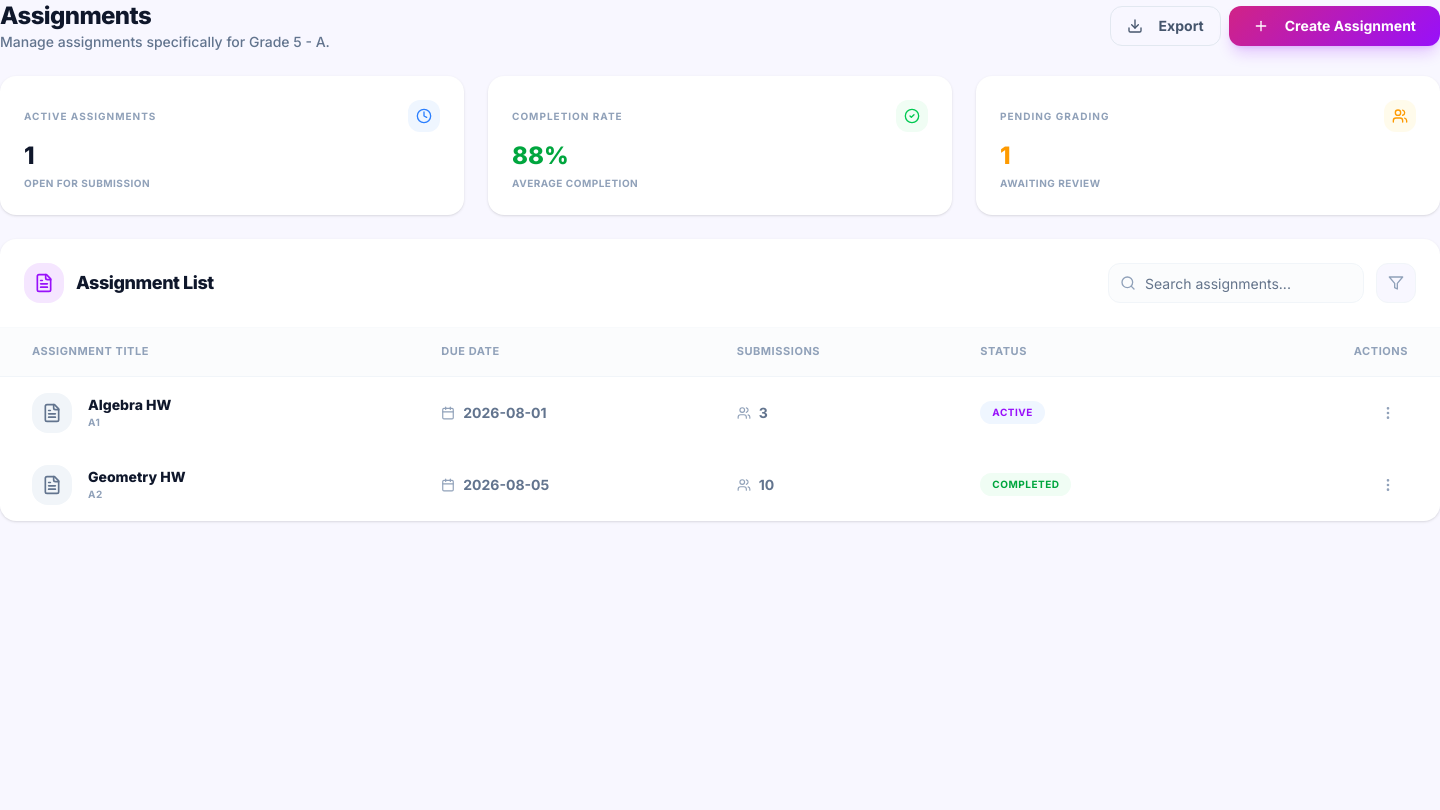
it: ClassAssignmentsTab › opens View Submissions dialog scoped to the class' students
Step 1. Click the button without text in the row of "Algebra HW" → (1388, 412), box [1368,392,1408,432]
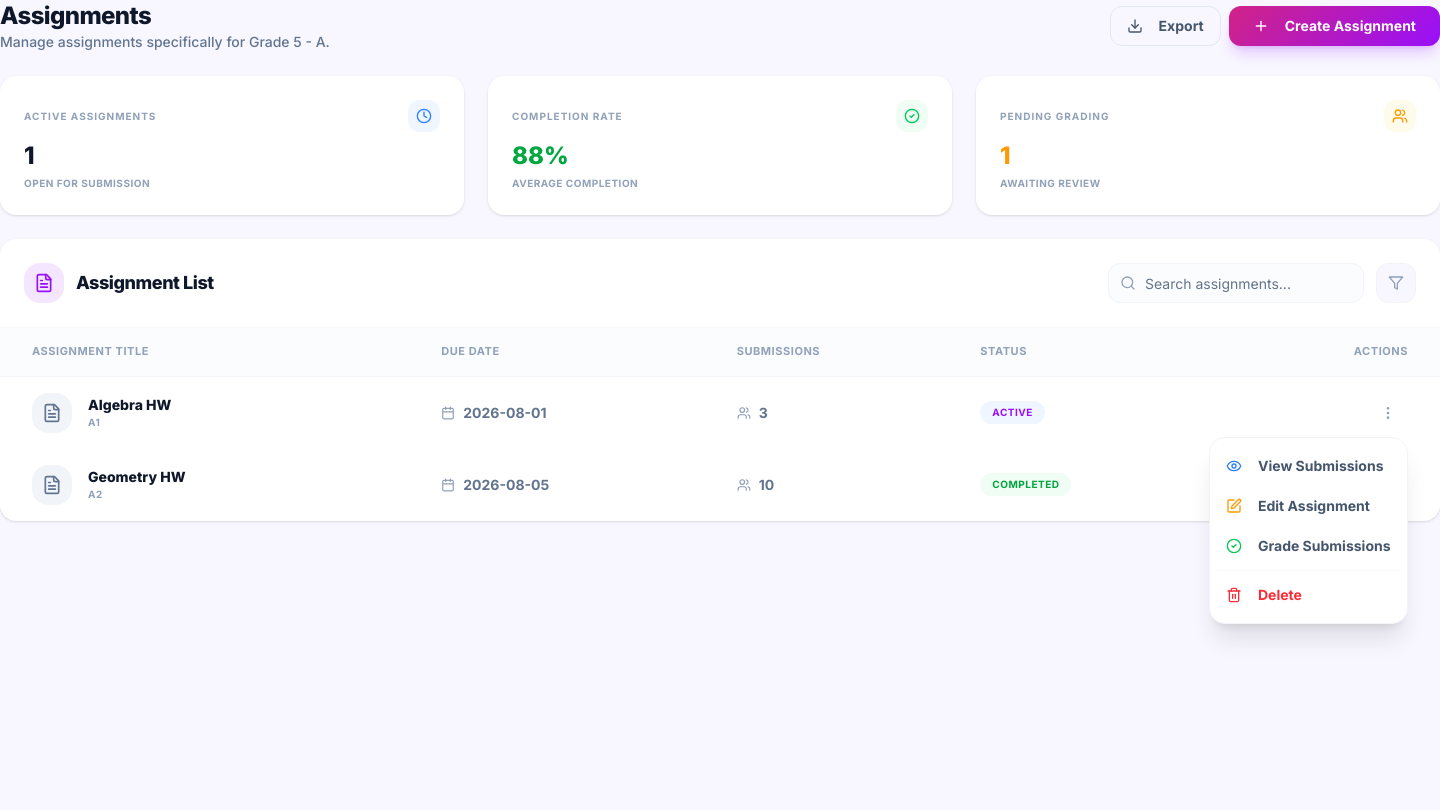
Step 2. Click the menu item "View Submissions" → (1305, 466), box [1226,457,1384,474]
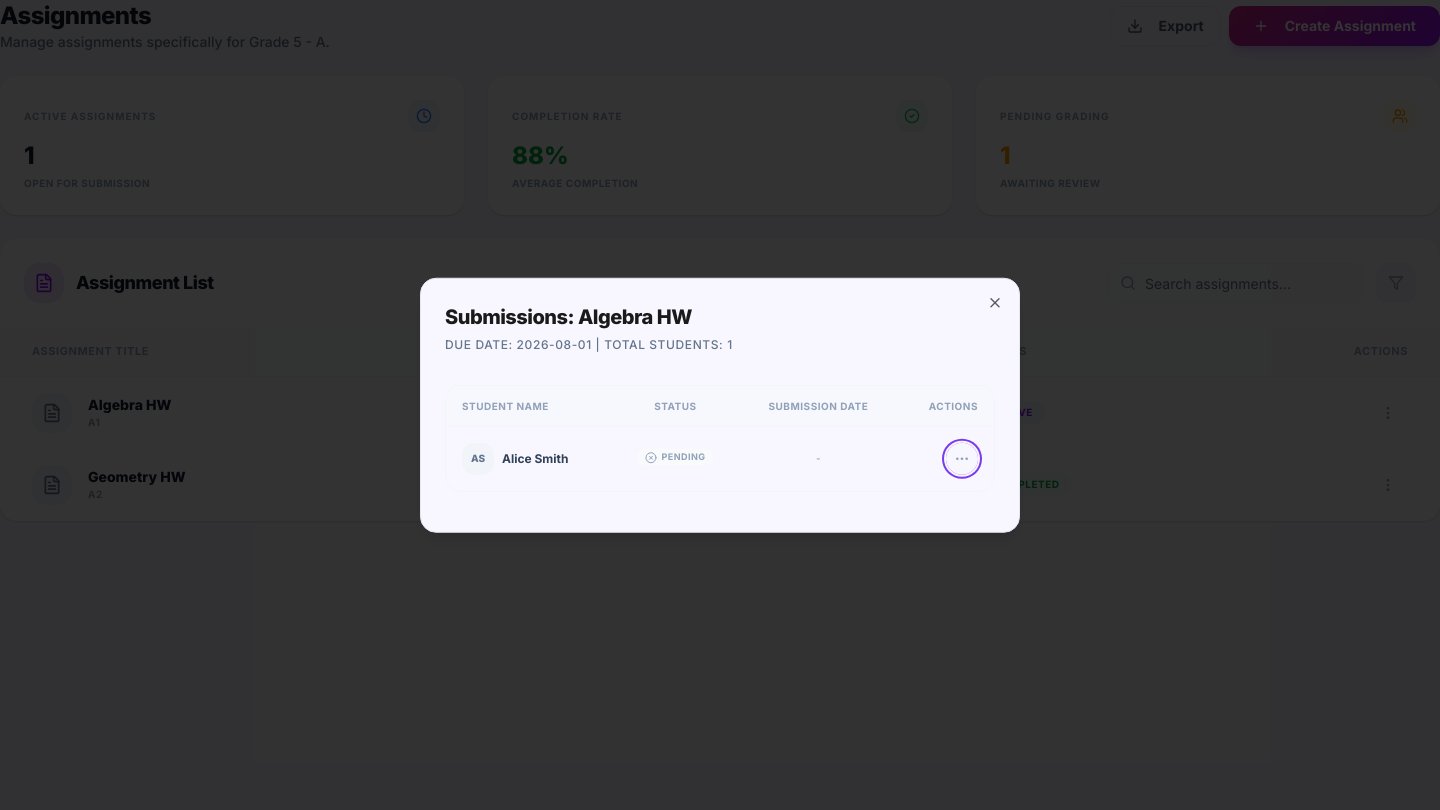
Now the heading "Submissions: Algebra HW" is shown, box [445,305,692,329]
Now the text "Alice Smith" is shown, box [502,450,568,466]
